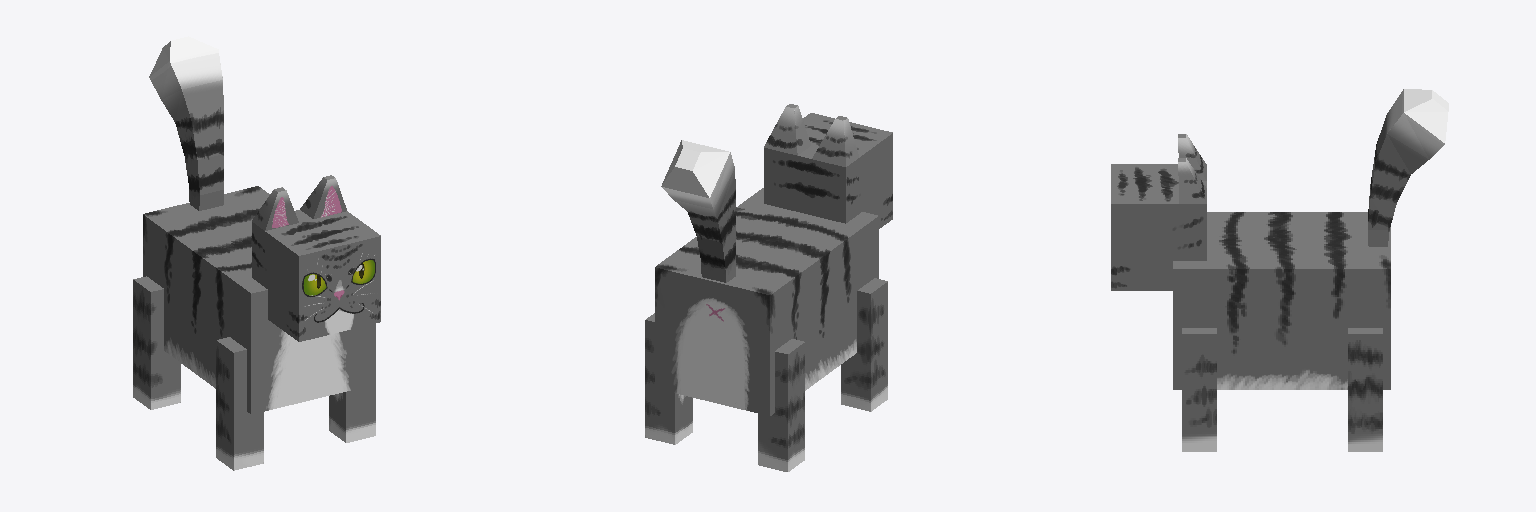
The picture shows the model from 3 angles: view 1: azimuth 30°, elevation 25°; view 2: azimuth 150°, elevation 25°; view 3: azimuth 270°, elevation 25°; orthographic projection.
Visible parts, largest first — view 1: Cat_Body_initialShadingGroup, Cat_3_Chonk_initialShadingGroup, Cat_3_Chonk_initialShadingGroup_1, Cat_3_Chonk_initialShadingGroup_3, Cat_3_Chonk_initialShadingGroup_4, Cat_3_Chonk_initialShadingGroup_2; view 2: Cat_Body_initialShadingGroup, Cat_3_Chonk_initialShadingGroup, Cat_3_Chonk_initialShadingGroup_1, Cat_3_Chonk_initialShadingGroup_4, Cat_3_Chonk_initialShadingGroup_3, Cat_3_Chonk_initialShadingGroup_5; view 3: Cat_Body_initialShadingGroup, Cat_3_Chonk_initialShadingGroup, Cat_3_Chonk_initialShadingGroup_1, Cat_3_Chonk_initialShadingGroup_2, Cat_3_Chonk_initialShadingGroup_5.
Part boxes in pixels (x1,y1,x2,y2): Cat_Body_initialShadingGroup: (143, 186, 366, 414); Cat_3_Chonk_initialShadingGroup: (252, 175, 380, 341); Cat_3_Chonk_initialShadingGroup_1: (149, 36, 223, 210); Cat_3_Chonk_initialShadingGroup_3: (216, 337, 263, 470); Cat_3_Chonk_initialShadingGroup_4: (133, 276, 180, 409); Cat_3_Chonk_initialShadingGroup_2: (329, 324, 375, 442); Cat_Body_initialShadingGroup: (655, 188, 878, 415); Cat_3_Chonk_initialShadingGroup: (764, 104, 892, 228); Cat_3_Chonk_initialShadingGroup_1: (661, 140, 735, 282); Cat_3_Chonk_initialShadingGroup_4: (758, 339, 804, 471); Cat_3_Chonk_initialShadingGroup_3: (841, 278, 887, 411); Cat_3_Chonk_initialShadingGroup_5: (645, 313, 692, 444); Cat_Body_initialShadingGroup: (1173, 212, 1390, 389); Cat_3_Chonk_initialShadingGroup: (1111, 134, 1206, 290); Cat_3_Chonk_initialShadingGroup_1: (1368, 89, 1448, 246); Cat_3_Chonk_initialShadingGroup_2: (1182, 328, 1216, 451); Cat_3_Chonk_initialShadingGroup_5: (1348, 328, 1382, 451).
Bounding box in the file's own units: 1.59 × 3.43 × 3.25.
1 materials, 1 textured.